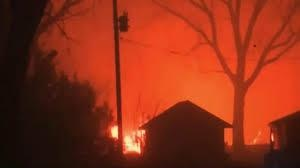fire: (107, 119, 146, 154)
